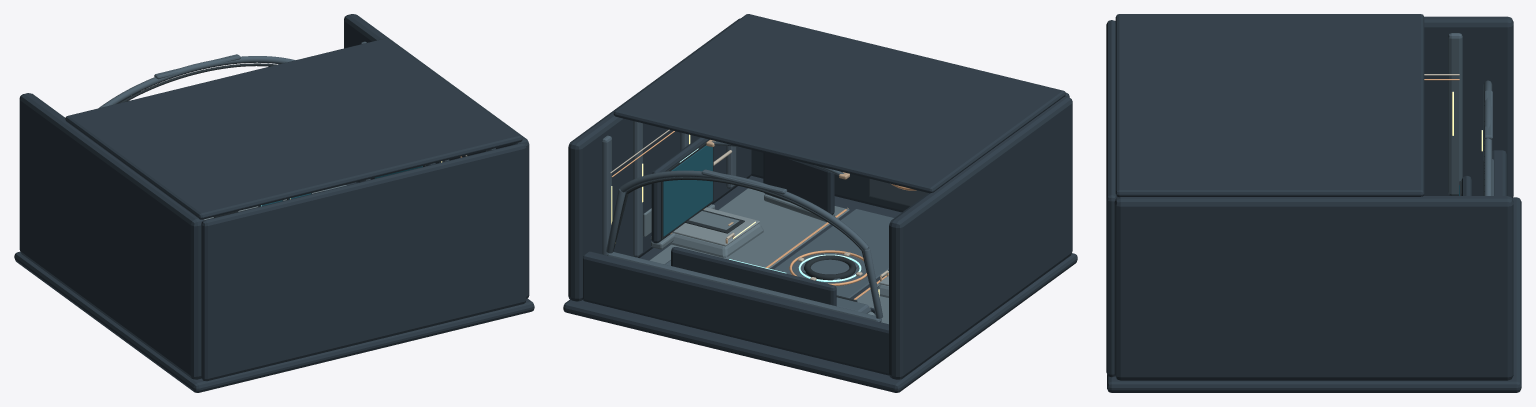
Rendered from cockpit.glb.
3 views of the same model, side by side, from view 1: azimuth 30°, elevation 25°; view 2: azimuth 150°, elevation 25°; view 3: azimuth 270°, elevation 25° (orthographic). The views are drawn at different scales.
Parts seen in each view (by area): view 1: MobileOccluder_RearBulkhead, MobileOccluder_CeilingShell, Cockpit_LeftPressureWall, Cockpit_PressureDeck, Cockpit_RightPressureWall, Cockpit_ObservationFrame, Cockpit_ObservationGasket; view 2: MobileOccluder_CeilingShell, Cockpit_LeftPressureWall, Cockpit_ForwardBase, Cockpit_RightPressureWall, Cockpit_PressureDeck, Cockpit_DeckPanel_1, Cockpit_DeckSpine, Console_Projects_Chassis, Console_Contact_Chassis, Console_Skills_Screen, Cockpit_ObservationFrame, Cockpit_WindowSill (+15 smaller); view 3: Cockpit_RightPressureWall, MobileOccluder_CeilingShell, Cockpit_LeftPressureWall, Cockpit_PressureDeck, MobileOccluder_RearBulkhead, Cockpit_Rib_-1_3, Cockpit_ObservationFrame, Cockpit_ForwardBase.
Part boxes in pixels (x1,y1,x2,y2): MobileOccluder_RearBulkhead: (201,143,526,381); MobileOccluder_CeilingShell: (65,38,522,219); Cockpit_LeftPressureWall: (19,93,203,379); Cockpit_PressureDeck: (14,182,534,392); Cockpit_RightPressureWall: (344,14,529,298); Cockpit_ObservationFrame: (99,56,295,107); Cockpit_ObservationGasket: (119,63,276,103); MobileOccluder_CeilingShell: (613,14,1065,193); Cockpit_LeftPressureWall: (889,96,1072,379); Cockpit_ForwardBase: (582,251,889,375); Cockpit_RightPressureWall: (568,18,751,301); Cockpit_PressureDeck: (563,175,1077,392); Cockpit_DeckPanel_1: (649,188,849,268); Cockpit_DeckSpine: (773,209,893,298); Console_Projects_Chassis: (671,247,836,306); Console_Contact_Chassis: (763,152,834,214); Console_Skills_Screen: (663,145,712,236); Cockpit_ObservationFrame: (620,170,868,250); Cockpit_WindowSill: (607,252,881,322); Cockpit_RightPressureWall: (1114,196,1513,380); MobileOccluder_CeilingShell: (1115,14,1424,197); Cockpit_LeftPressureWall: (1423,16,1513,197); Cockpit_PressureDeck: (1107,197,1521,392); MobileOccluder_RearBulkhead: (1106,20,1116,377); Cockpit_Rib_-1_3: (1448,33,1462,195); Cockpit_ObservationFrame: (1483,80,1492,195); Cockpit_ForwardBase: (1492,150,1506,195).
Size of the model in its own units: 20.2 by 9.94 by 18.82.
